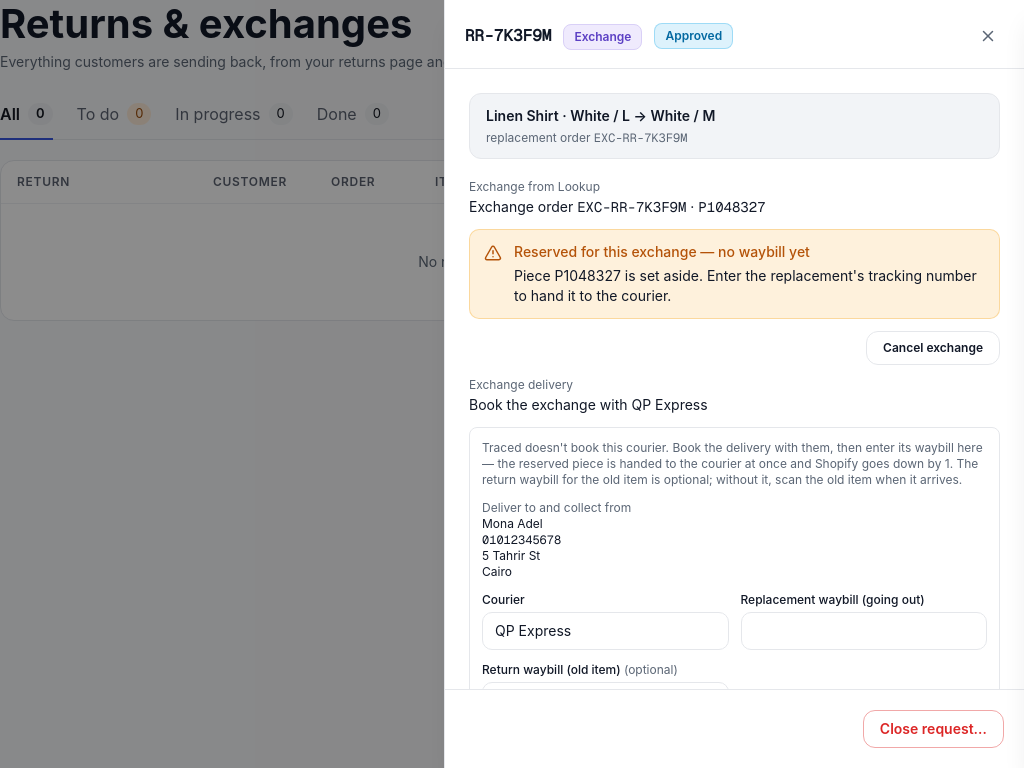
Test: Drawer — an exchange made in Lookup › dx5 — a cancel refusal shows the server message
This screenshot has width=1024, height=768.
expect the element with test id "lookup-exchange" is shown: met, box 469,179 -> 1000,365
Click the button with test id "lookup-exchange-cancel": (933, 348) 866,331 -> 1000,365
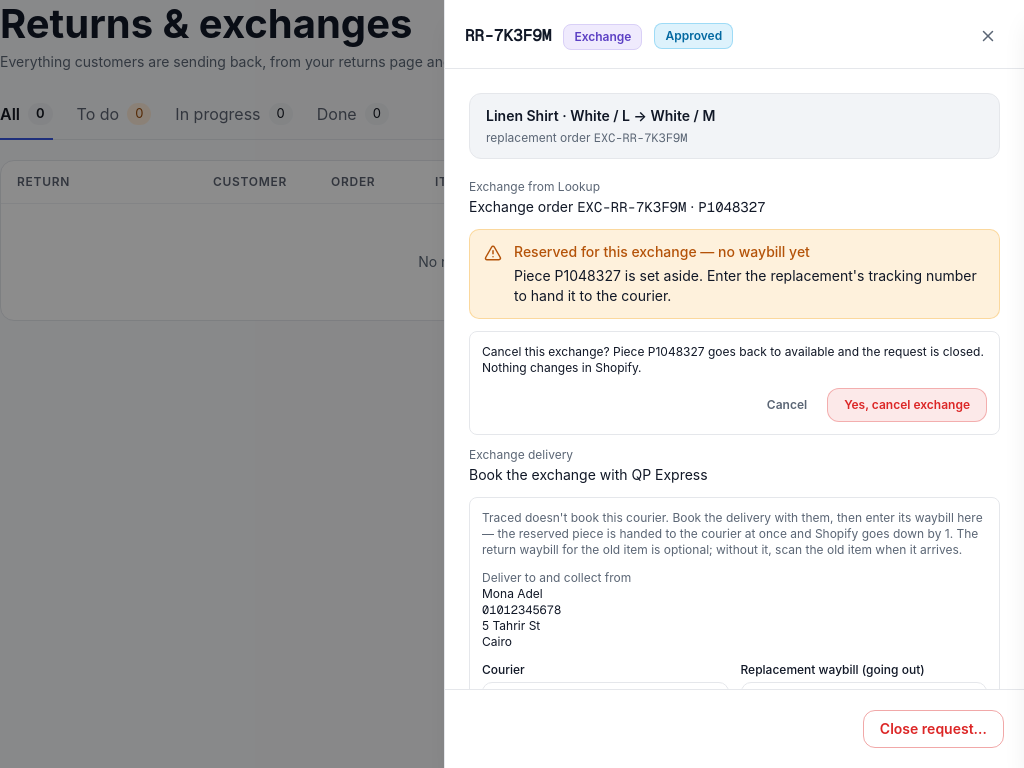
Click the button with test id "lookup-exchange-cancel-confirm-btn": (907, 405) 827,388 -> 987,422
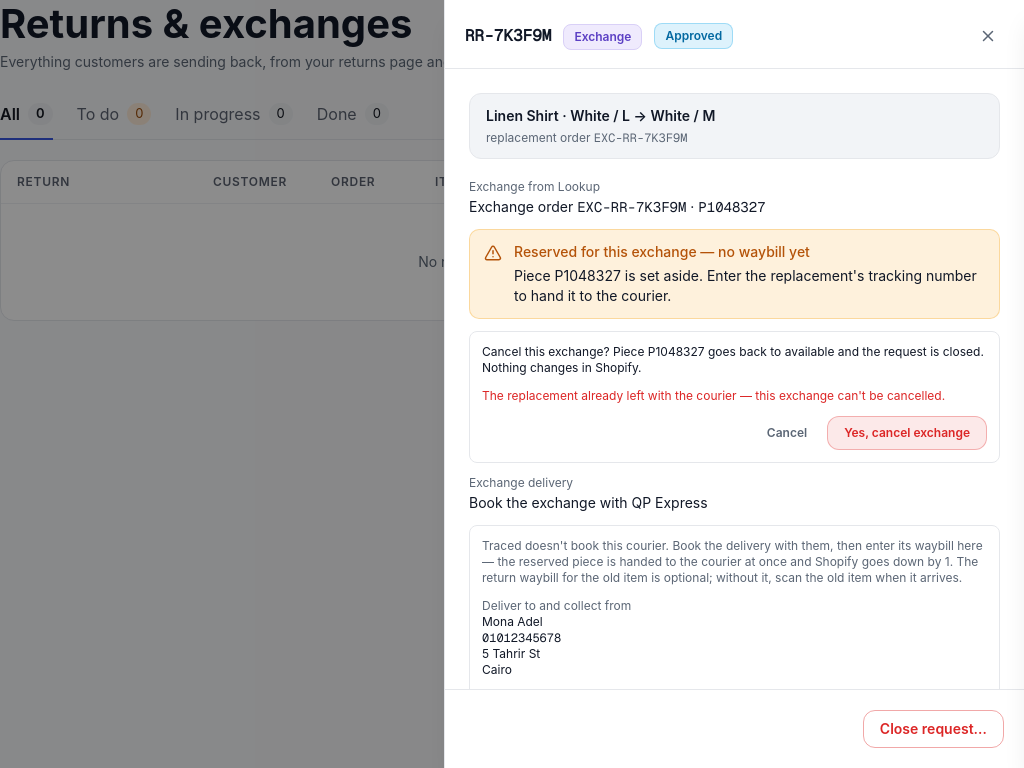
expect the message shows "already left with the courier": met, box 482,388 -> 945,403
